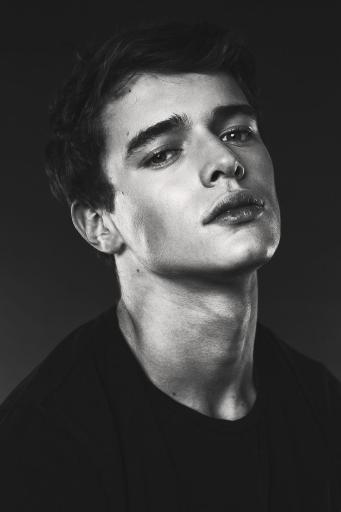left_eye: (218, 129, 256, 148)
left_lip_corner: (256, 196, 269, 211)
right_eye: (136, 147, 183, 172)
right_lip_corner: (200, 214, 214, 234)
